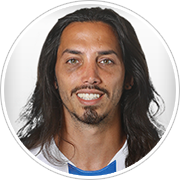smile: (77, 88, 105, 106)
